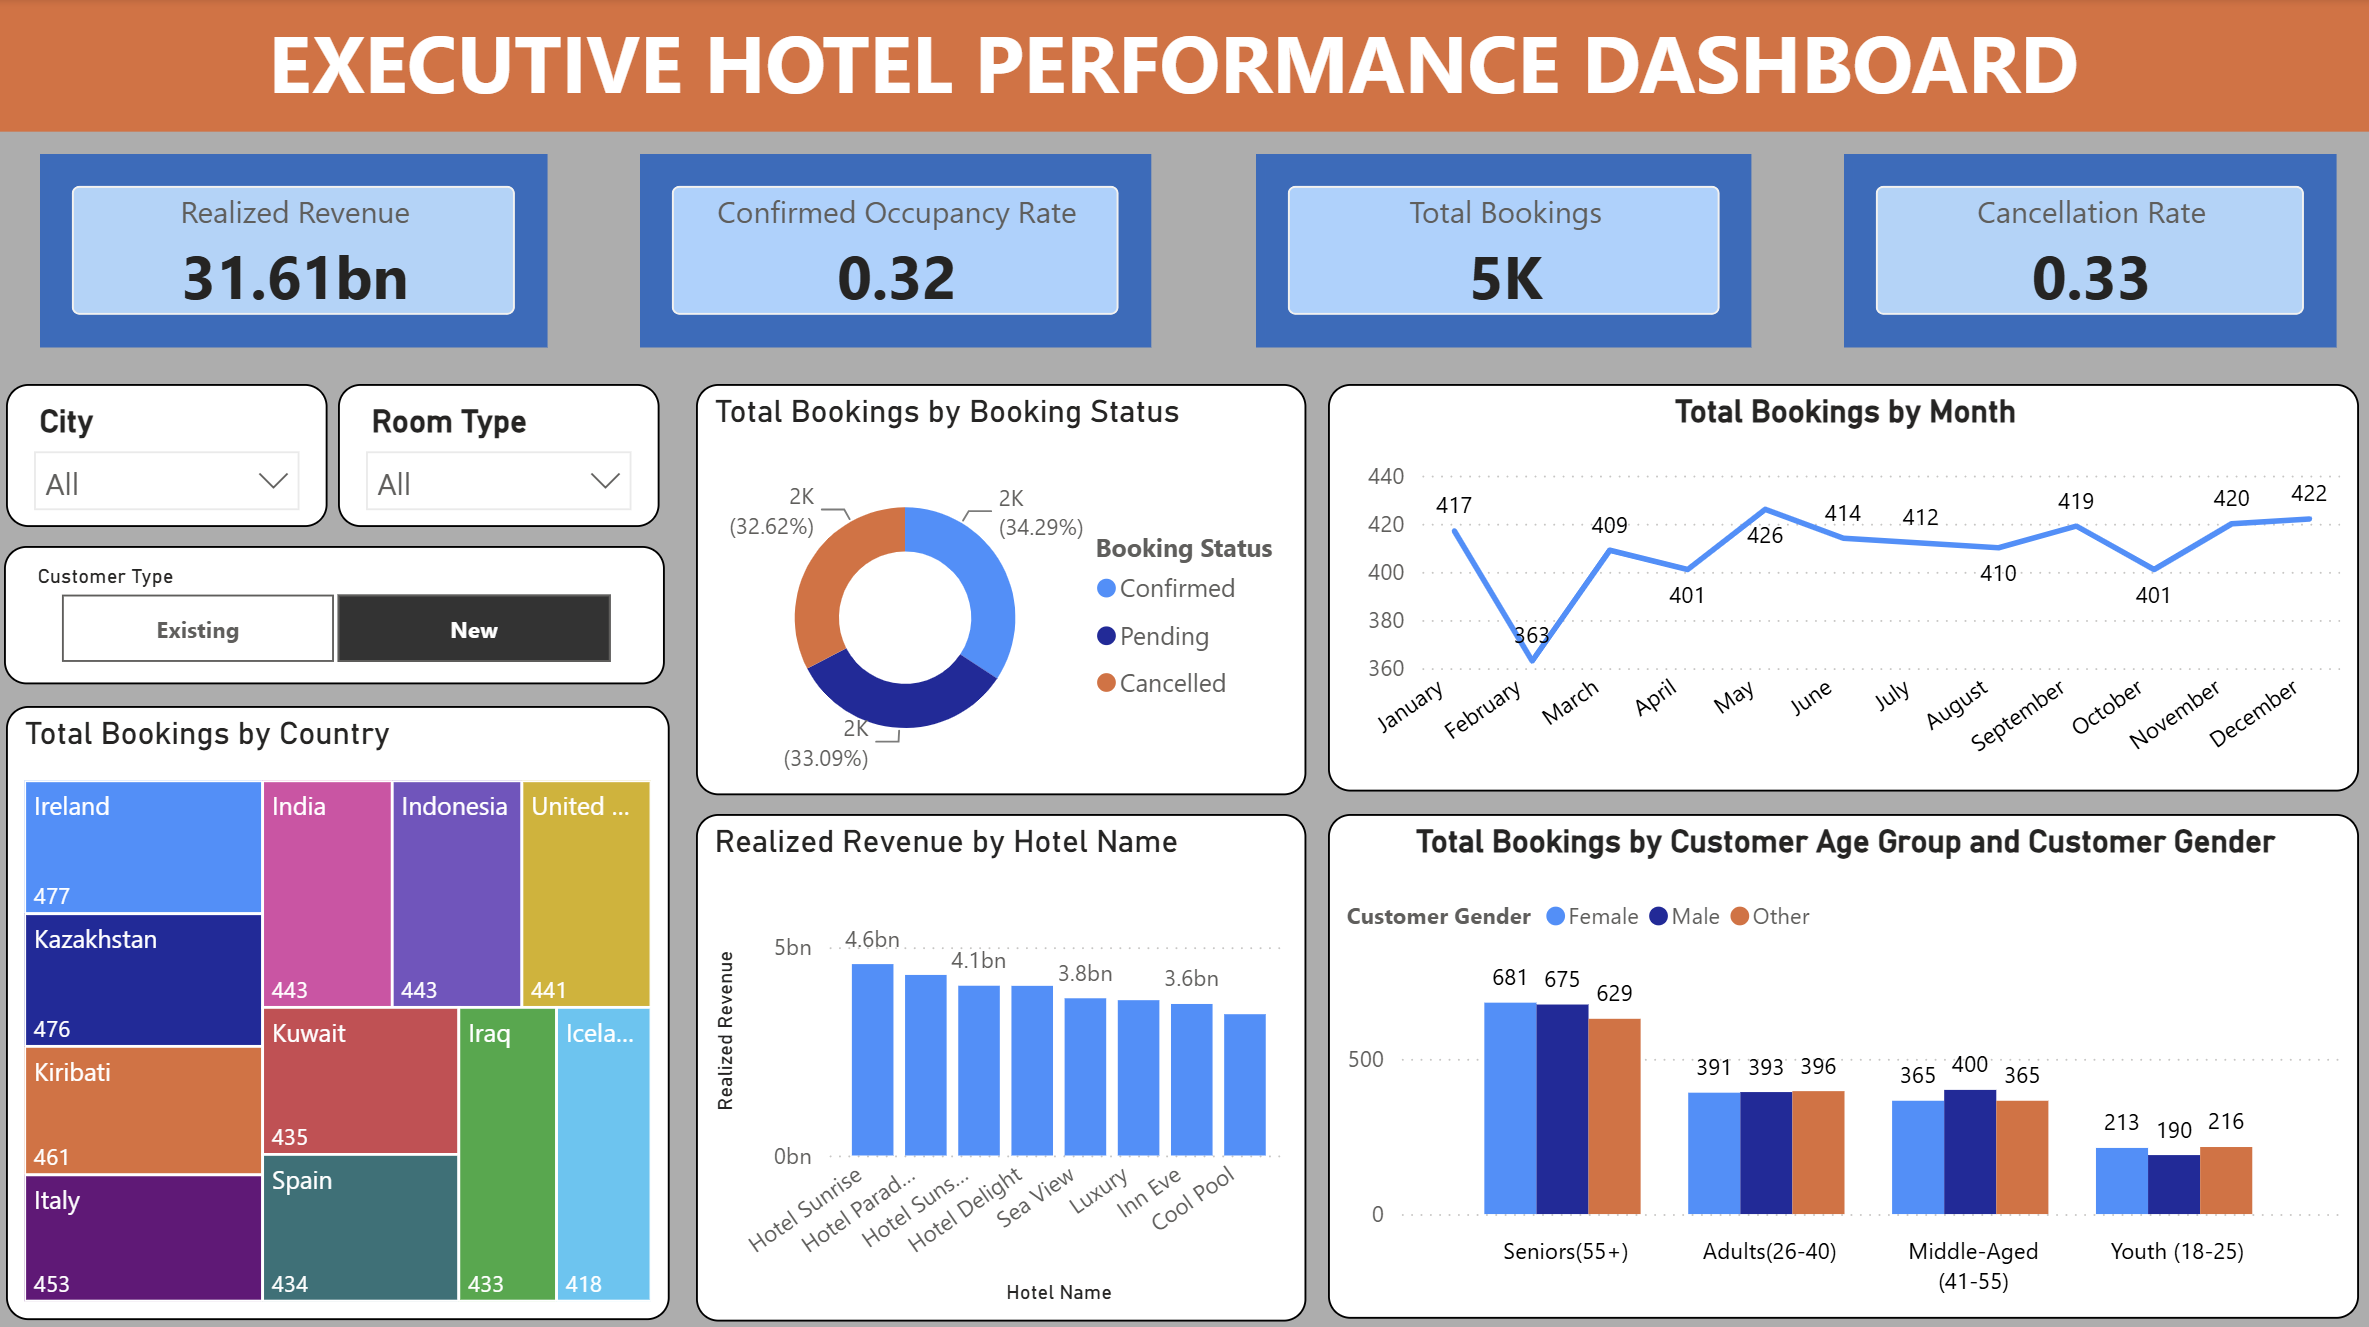

What the dashboard file says about the page in this screenshot:
{"tool":"powerbi","page":{"name":"Page 1","canvas":[1280,720],"ordinal":0},"visuals":[{"type":"textbox","box":[0,0,1280,71.7],"z":0},{"type":"cardVisual","fields":{"Data":["Hotel_management Data.Realized Revenue"]},"box":[28.3,83.3,271.7,103.3],"z":1000},{"type":"cardVisual","fields":{"Data":["Hotel_management Data.Confirmed Occupancy Rate"]},"box":[348.3,83.3,273.3,103.3],"z":2000},{"type":"cardVisual","fields":{"Data":["Hotel_management Data.Total Bookings"]},"box":[678.3,83.3,265,103.3],"z":3000},{"type":"cardVisual","fields":{"Data":["Hotel_management Data.Cancellation Rate"]},"box":[993.3,83.3,263.3,103.3],"z":4000},{"type":"donutChart","fields":{"Category":["Hotel_management Data.Booking Status"],"Y":["Hotel_management Data.Total Bookings"]},"box":[378.3,206.7,326.7,220],"z":5000},{"type":"lineChart","fields":{"Category":["Hotel_management Data.Booking Date.Variation.Date Hierarchy.Month"],"Y":["Hotel_management Data.Total Bookings"]},"box":[716.7,206.7,551.7,218],"z":6000},{"type":"clusteredColumnChart","fields":{"Category":["Hotel_management Data.Customer Age Group"],"Y":["Hotel_management Data.Total Bookings"],"Series":["Hotel_management Data.Customer Gender"]},"box":[716.7,436.7,551.7,270],"z":7000},{"type":"clusteredColumnChart","fields":{"Y":["Hotel_management Data.Realized Revenue"],"Category":["Hotel_management Data.Hotel Name"]},"box":[378.3,436.7,326.7,271.7],"z":7001},{"type":"treemap","fields":{"Group":["Hotel_management Data.Country","Hotel_management Data.City"],"Values":["Hotel_management Data.Total Bookings"]},"box":[10,378.3,355,328.3],"z":7002},{"type":"slicer","fields":{"Values":["Hotel_management Data.City"]},"box":[10,206.2,172,76.2],"z":7003},{"type":"slicer","fields":{"Values":["Hotel_management Data.Room Type"]},"box":[187.5,206.2,172,76.2],"z":7004},{"type":"slicer","fields":{"Values":["Hotel_management Data.Customer Type"]},"box":[9,293,353.3,74],"z":7005}]}

Visuals, with their boxes in screenshot pixels (x1, y1, x2, y2), scaled from the page's 1280x720 canvas onto the 2369x1327 screenshot:
textbox: (x1=0, y1=0, x2=2368, y2=132)
cardVisual - Hotel_management Data.Realized Revenue: (x1=52, y1=154, x2=555, y2=344)
cardVisual - Hotel_management Data.Confirmed Occupancy Rate: (x1=645, y1=154, x2=1150, y2=344)
cardVisual - Hotel_management Data.Total Bookings: (x1=1255, y1=154, x2=1746, y2=344)
cardVisual - Hotel_management Data.Cancellation Rate: (x1=1838, y1=154, x2=2326, y2=344)
donutChart - Hotel_management Data.Booking Status x Hotel_management Data.Total Bookings: (x1=700, y1=381, x2=1305, y2=786)
lineChart - Hotel_management Data.Booking Date.Variation.Date Hierarchy.Month x Hotel_management Data.Total Bookings: (x1=1326, y1=381, x2=2348, y2=783)
clusteredColumnChart - Hotel_management Data.Customer Age Group x Hotel_management Data.Total Bookings: (x1=1326, y1=805, x2=2348, y2=1302)
clusteredColumnChart - Hotel_management Data.Realized Revenue x Hotel_management Data.Hotel Name: (x1=700, y1=805, x2=1305, y2=1306)
treemap - Hotel_management Data.Country x Hotel_management Data.City: (x1=19, y1=697, x2=676, y2=1302)
slicer - Hotel_management Data.City: (x1=19, y1=380, x2=337, y2=520)
slicer - Hotel_management Data.Room Type: (x1=347, y1=380, x2=665, y2=520)
slicer - Hotel_management Data.Customer Type: (x1=17, y1=540, x2=671, y2=676)
